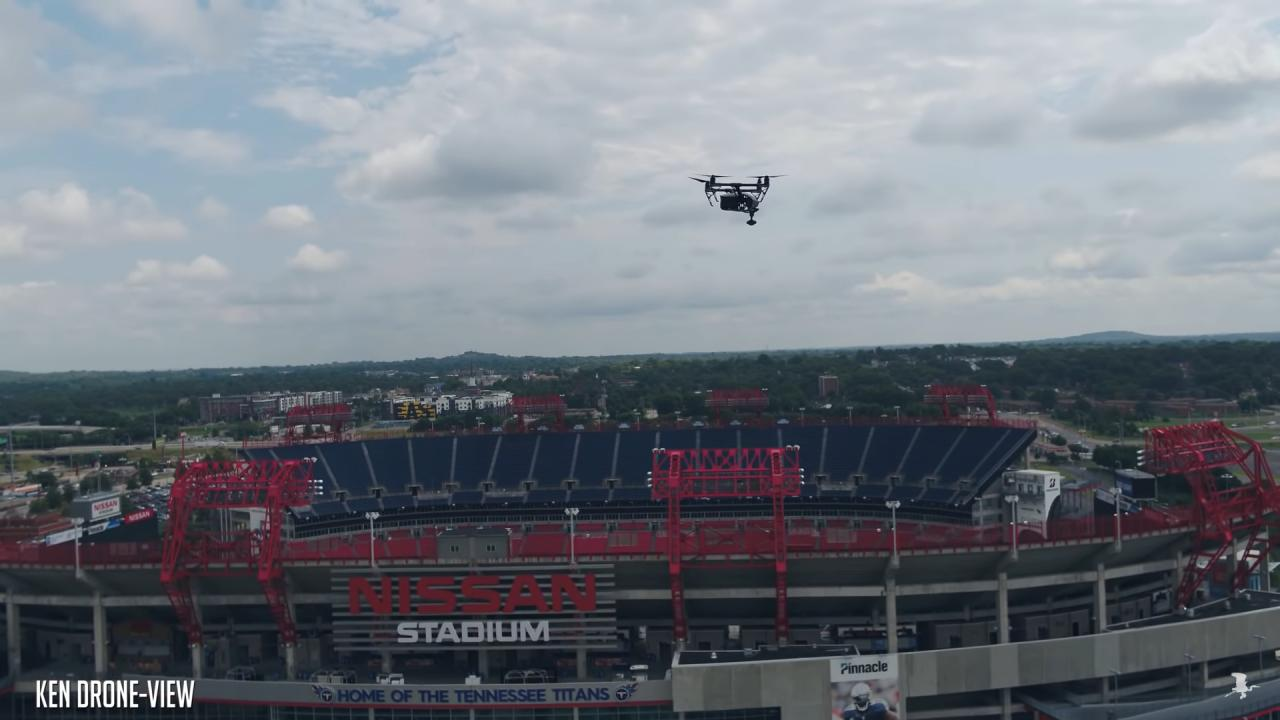Drone: (681, 165, 790, 233)
